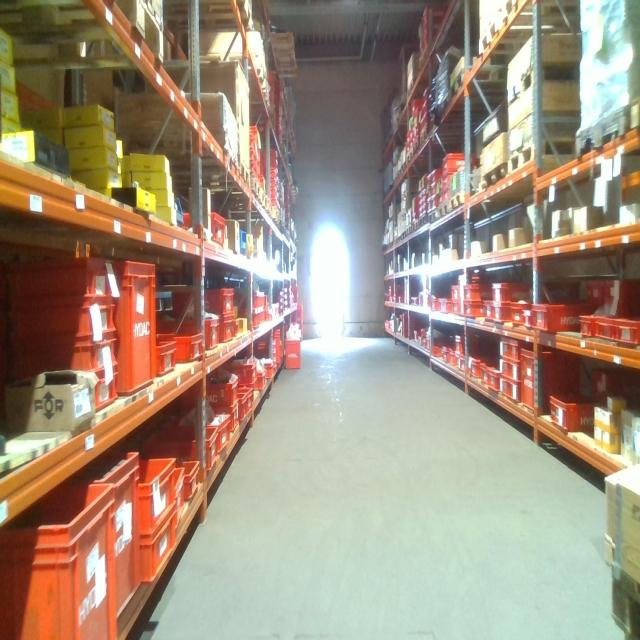pallet: (1, 1, 166, 74), (116, 134, 239, 205), (192, 51, 268, 119), (507, 55, 584, 106), (506, 132, 584, 179), (185, 155, 251, 207), (574, 101, 632, 160), (477, 9, 503, 59), (476, 162, 507, 196), (451, 69, 470, 107), (501, 0, 531, 24), (448, 189, 472, 217), (628, 93, 638, 145), (248, 172, 259, 214), (438, 94, 451, 128), (260, 190, 272, 221), (437, 197, 448, 226), (271, 202, 281, 233), (419, 121, 429, 151), (411, 137, 420, 161), (428, 209, 437, 230), (418, 212, 426, 234), (405, 223, 413, 237), (407, 147, 414, 162)
small_load_carrier: (2, 483, 118, 638), (97, 446, 141, 611), (7, 297, 120, 349), (7, 252, 116, 304), (118, 258, 156, 394), (10, 338, 117, 379), (521, 349, 584, 416), (139, 452, 178, 531), (140, 503, 180, 577), (550, 393, 612, 435), (161, 432, 217, 474), (161, 312, 221, 349), (172, 290, 234, 319), (592, 367, 636, 403), (187, 378, 236, 407), (533, 304, 584, 329), (493, 282, 534, 307), (181, 213, 226, 235), (581, 309, 611, 341), (175, 332, 201, 364), (97, 373, 118, 412), (598, 316, 627, 344), (607, 281, 638, 306), (462, 281, 498, 302), (206, 417, 231, 446), (157, 335, 174, 376), (498, 355, 526, 378), (500, 339, 532, 359), (286, 336, 304, 369), (618, 318, 638, 347), (605, 303, 638, 320), (512, 303, 533, 329), (187, 463, 201, 501), (235, 361, 258, 384), (500, 376, 523, 398), (520, 306, 542, 329), (440, 152, 465, 172), (487, 371, 506, 397), (175, 466, 185, 514), (455, 329, 479, 347), (584, 281, 605, 301), (236, 388, 252, 412), (481, 364, 496, 388), (494, 303, 512, 321), (221, 320, 234, 344), (442, 172, 465, 185), (274, 328, 282, 365), (466, 301, 487, 315), (485, 301, 499, 321), (250, 373, 266, 390), (471, 361, 486, 378), (226, 403, 236, 424), (453, 350, 478, 358), (450, 300, 463, 314), (450, 284, 461, 300), (263, 361, 273, 378), (448, 344, 455, 365), (455, 355, 464, 370)
